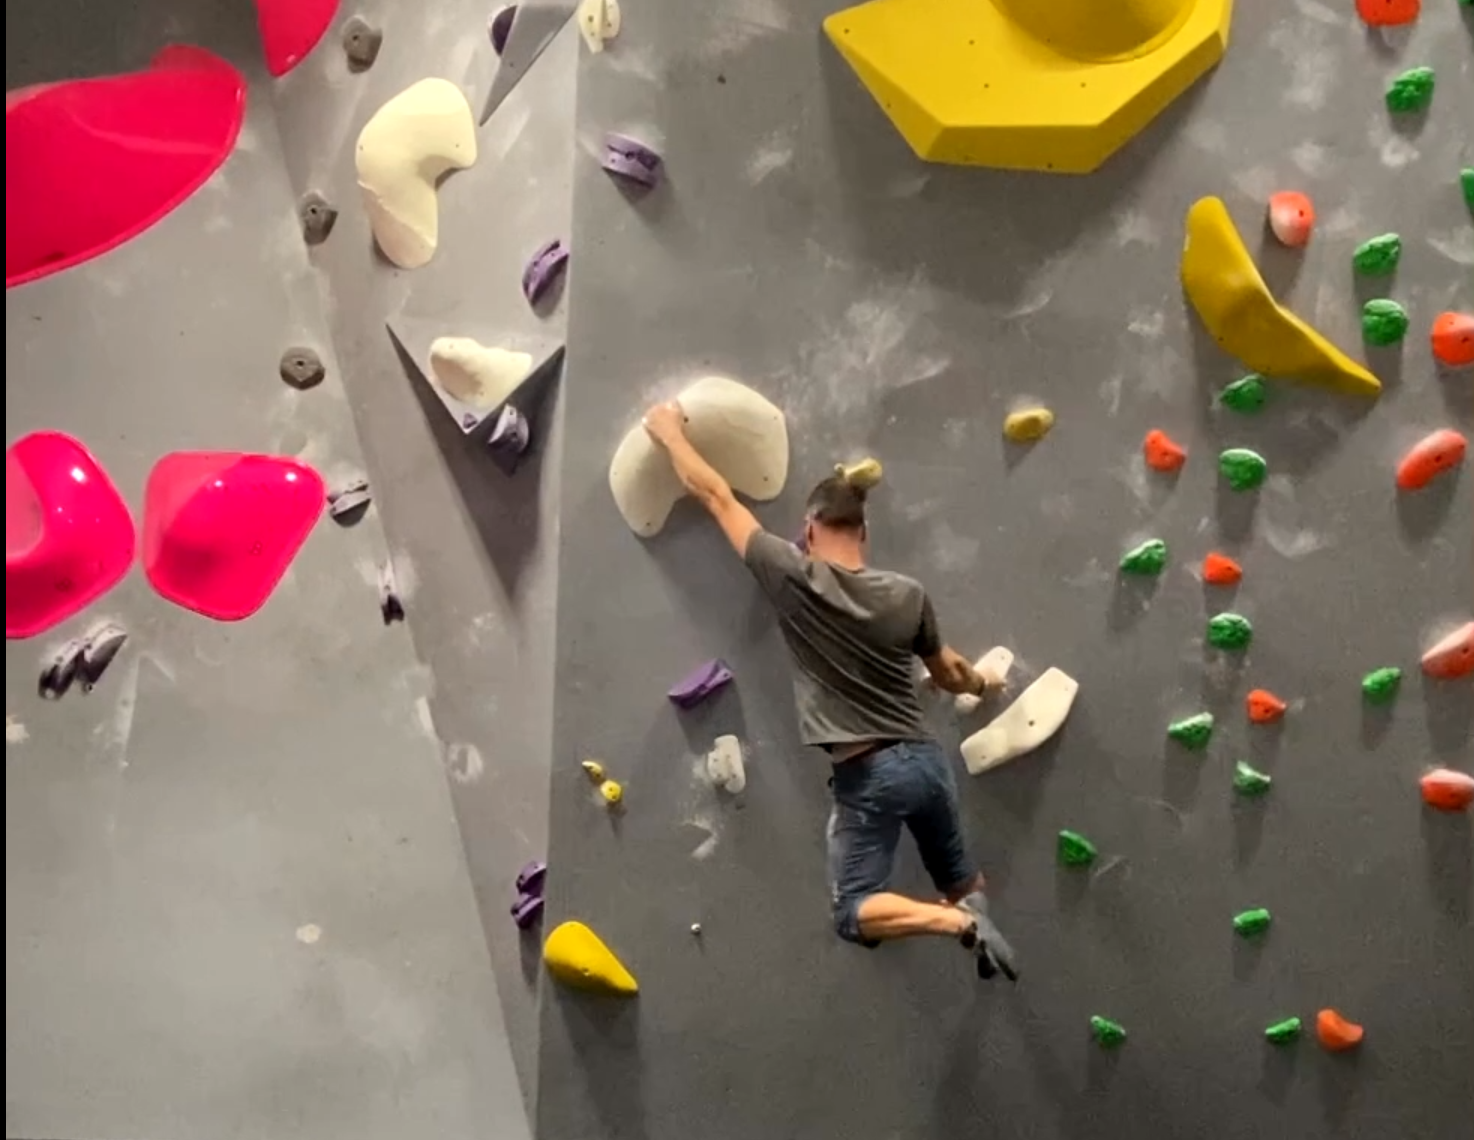hold: (1172, 187, 1401, 419), (136, 438, 333, 628), (602, 371, 790, 534), (343, 77, 486, 281), (962, 660, 1078, 782), (542, 909, 646, 1014), (420, 328, 540, 402), (658, 645, 747, 713), (946, 638, 1021, 717), (592, 124, 672, 196), (1389, 427, 1464, 501), (512, 234, 577, 307), (1259, 182, 1320, 256), (561, 1, 636, 59), (1378, 59, 1446, 120), (702, 731, 756, 806), (41, 634, 95, 709), (77, 621, 135, 688), (367, 557, 418, 634), (1414, 760, 1474, 822), (485, 402, 532, 478), (1417, 618, 1474, 682), (1218, 439, 1277, 499), (317, 467, 374, 526), (1312, 1002, 1373, 1057), (1426, 305, 1474, 374), (992, 401, 1059, 449), (1350, 225, 1403, 284), (1052, 824, 1103, 884), (1162, 707, 1223, 755), (1356, 656, 1406, 713), (1222, 755, 1278, 805), (1223, 368, 1274, 422), (1115, 534, 1171, 583), (1236, 684, 1293, 732), (1196, 547, 1251, 596), (1362, 295, 1411, 350), (1135, 427, 1192, 474), (1201, 609, 1259, 652), (476, 5, 522, 59), (1078, 1007, 1129, 1050), (1261, 1008, 1306, 1049), (1229, 906, 1277, 944), (502, 889, 547, 928), (833, 457, 884, 490), (512, 856, 556, 891), (575, 756, 609, 788), (596, 778, 629, 807), (452, 407, 479, 431), (686, 918, 703, 944)
